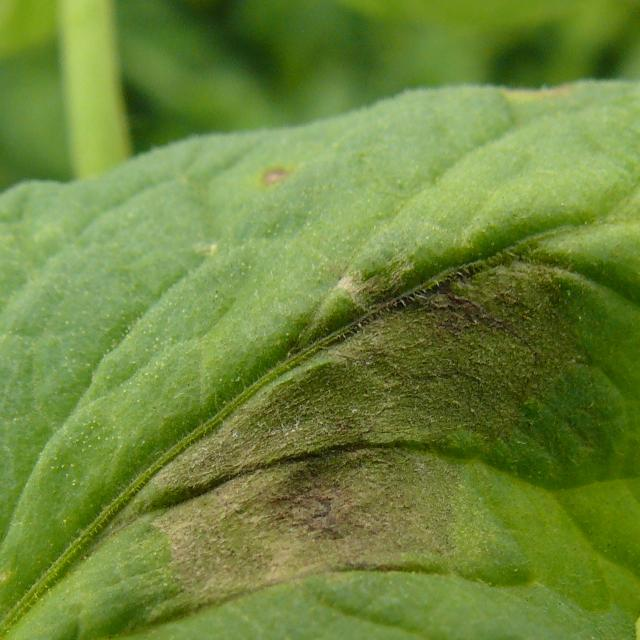Tomato leaf late blight: (0, 66, 640, 640)
